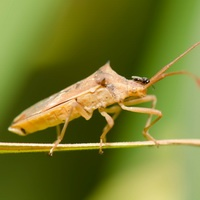insect: (0, 42, 199, 155), (59, 108, 107, 144), (105, 109, 148, 143)
